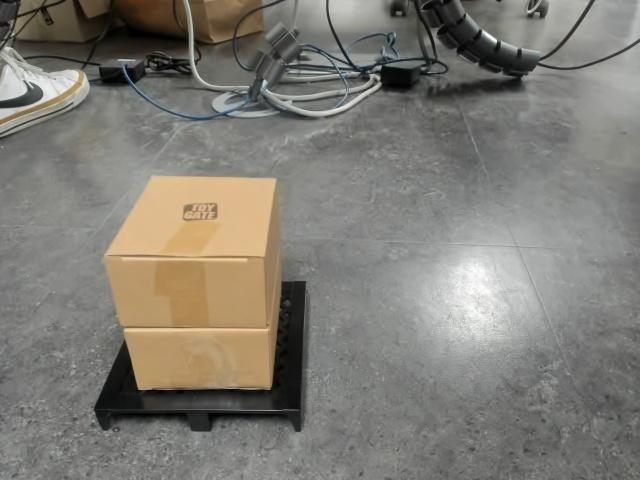box: (91, 175, 309, 432)
